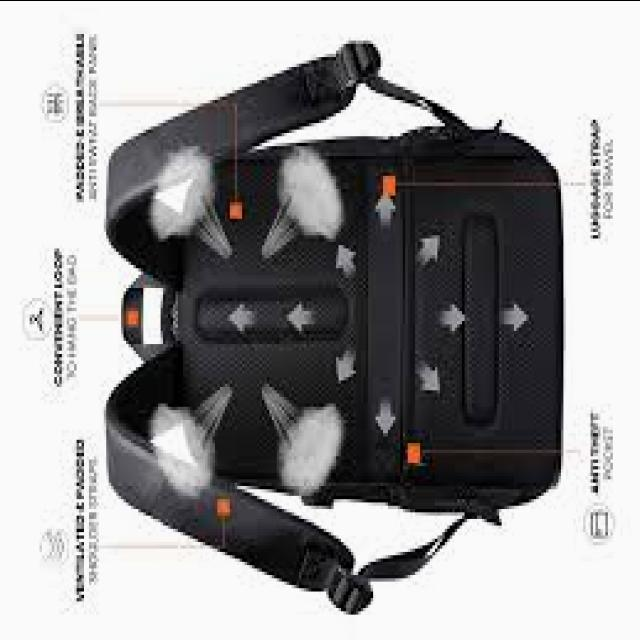backpack: (103, 40, 565, 618)
